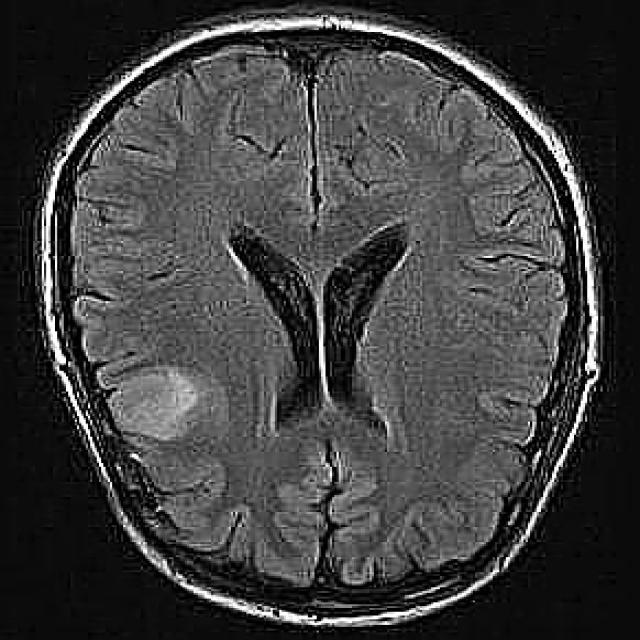Tumor-Cell: (128, 344, 220, 444)
